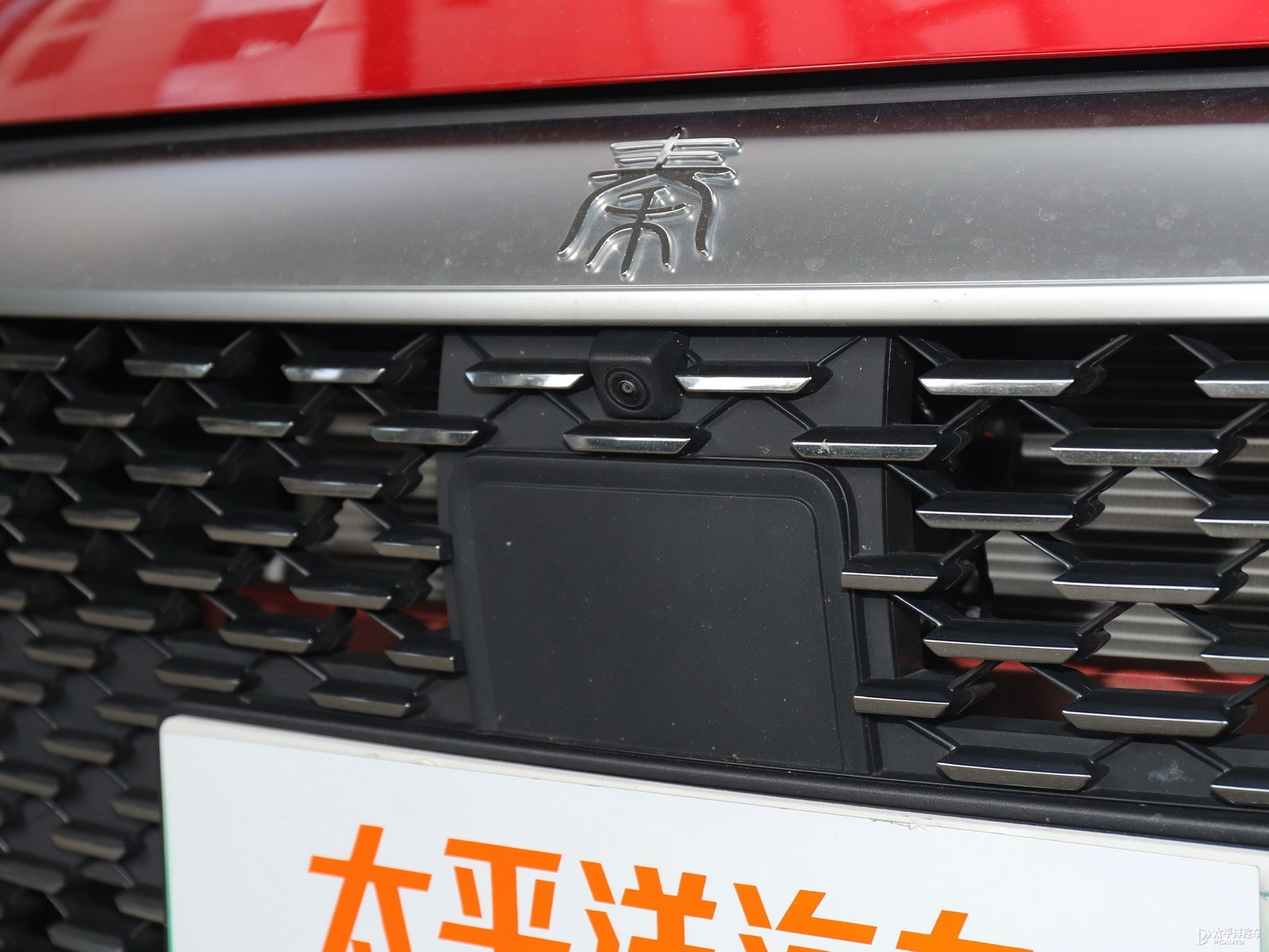BYD Qin: (558, 127, 740, 280)
